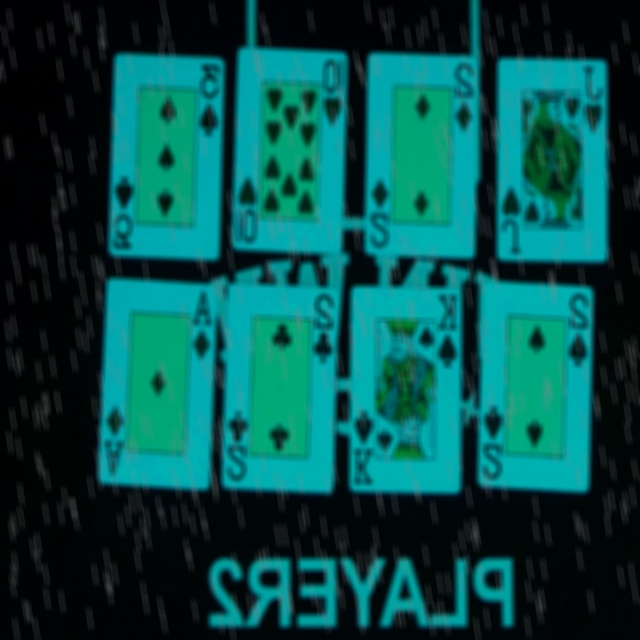10H: (321, 57, 347, 130), (234, 175, 258, 247)
2C: (311, 292, 342, 368), (222, 406, 250, 484)
2D: (452, 61, 479, 137), (366, 178, 392, 252)
2S: (567, 291, 594, 370), (479, 405, 506, 483)
3S: (195, 61, 225, 143), (109, 175, 136, 255)
AD: (100, 400, 127, 479), (189, 286, 215, 365)
JH: (582, 64, 608, 140), (498, 185, 523, 259)
KS: (350, 407, 377, 486), (436, 292, 461, 373)
